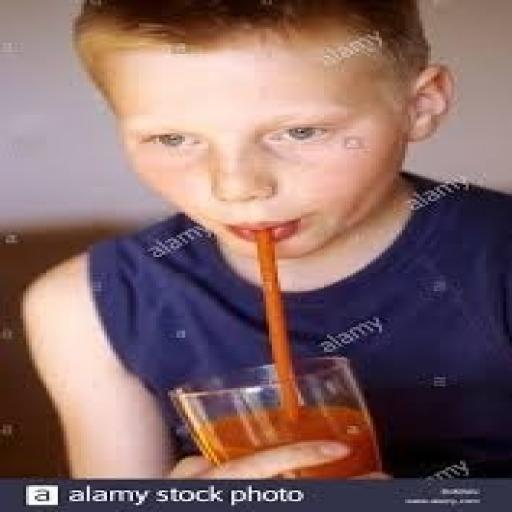drinking: (0, 0, 388, 480)
